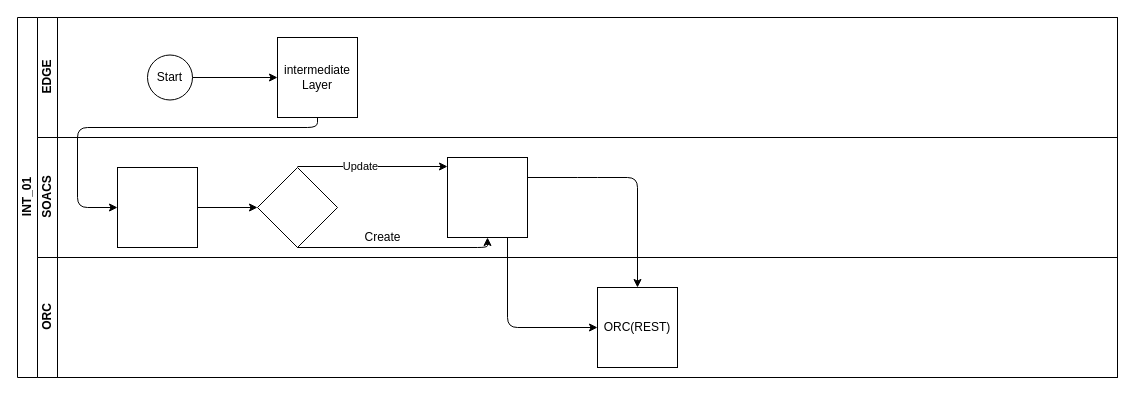
This 1135x395 diagram has some shape labels left out. Here are the shapes that lost their labels. From the top down, the centre of each, then its label:
point (157, 207): JMS Topic
point (297, 207): create/update
point (487, 197): BIP
